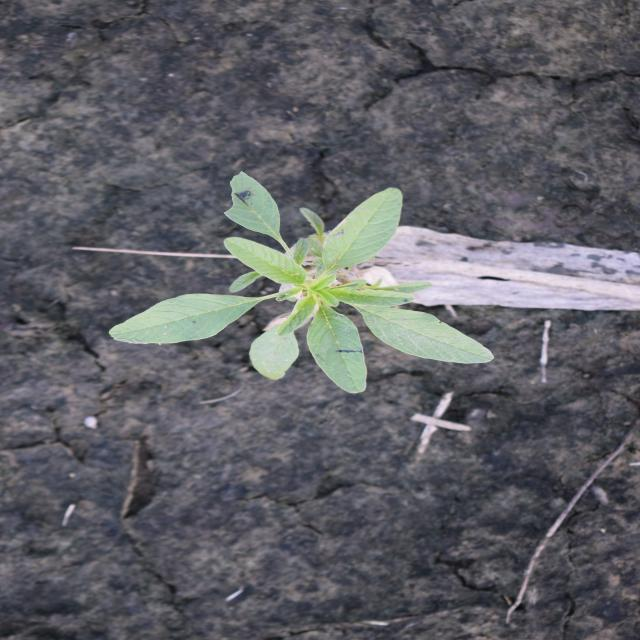Waterhemp: (105, 168, 499, 396)
